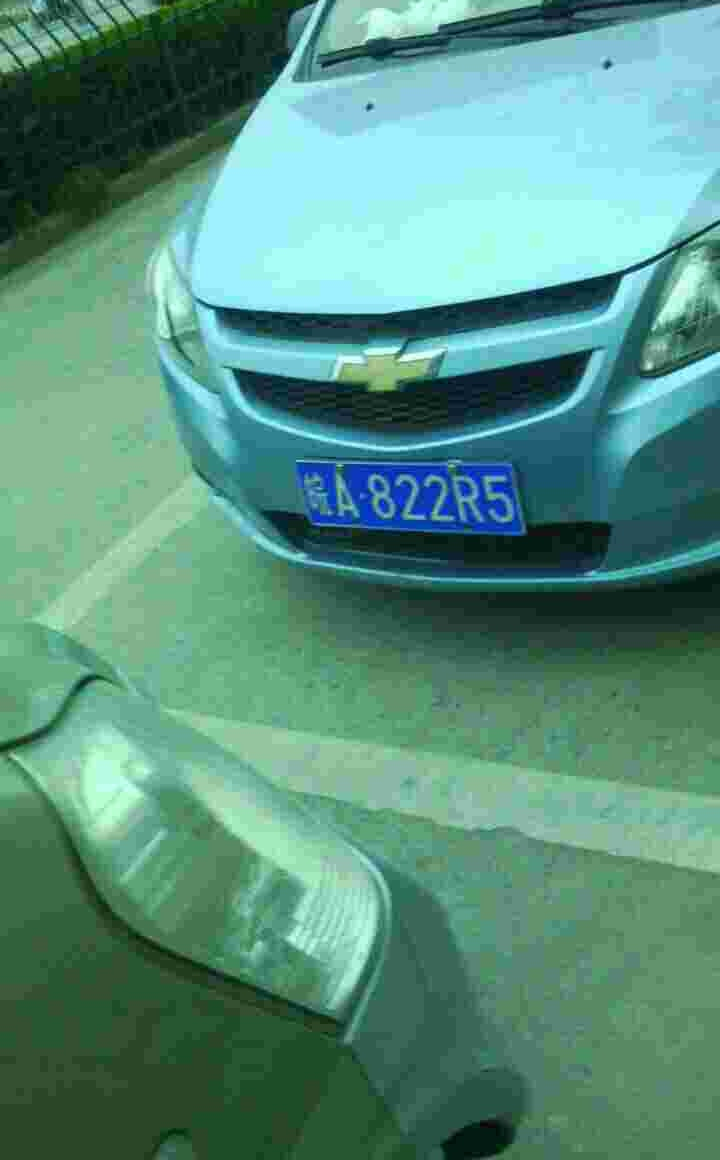license_plate: (291, 455, 537, 537)
